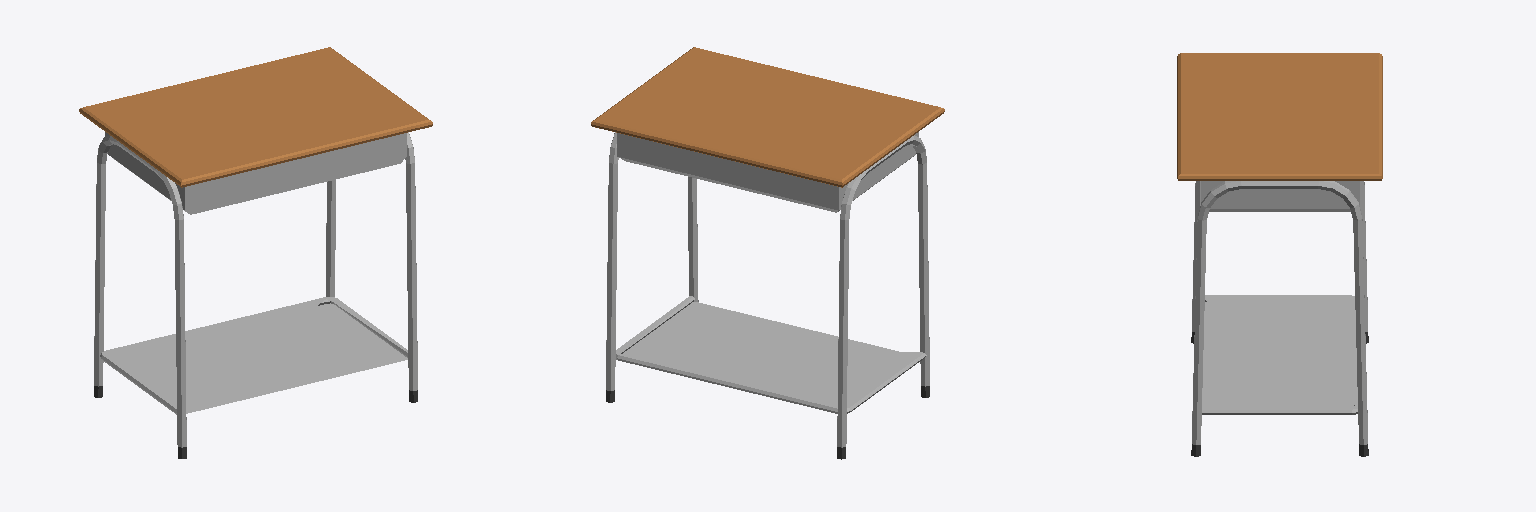
The model's file is desk1.obj.
The picture shows the model from 3 angles: view 1: azimuth 30°, elevation 25°; view 2: azimuth 150°, elevation 25°; view 3: azimuth 270°, elevation 25°; orthographic projection.
Parts seen in each view (by area): view 1: Mesh1 Group1 Model, Mesh6 Group9 Model, Mesh2 Group4 Model, Mesh7 Group11 Group10 Model, Mesh3 Group6 Group5 Model; view 2: Mesh1 Group1 Model, Mesh6 Group9 Model, Mesh2 Group4 Model, Mesh7 Group11 Group10 Model, Mesh3 Group6 Group5 Model; view 3: Mesh1 Group1 Model, Mesh6 Group9 Model, Mesh3 Group6 Group5 Model, Mesh2 Group4 Model, Mesh7 Group11 Group10 Model.
Part boxes in pixels (left/top/right/bottom): Mesh1 Group1 Model: left=79, top=47, right=432, bottom=187; Mesh6 Group9 Model: left=100, top=297, right=407, bottom=414; Mesh2 Group4 Model: left=105, top=132, right=406, bottom=214; Mesh7 Group11 Group10 Model: left=94, top=135, right=186, bottom=447; Mesh3 Group6 Group5 Model: left=326, top=132, right=417, bottom=390; Mesh1 Group1 Model: left=591, top=47, right=944, bottom=187; Mesh6 Group9 Model: left=616, top=296, right=926, bottom=413; Mesh2 Group4 Model: left=617, top=132, right=918, bottom=212; Mesh7 Group11 Group10 Model: left=837, top=135, right=929, bottom=447; Mesh3 Group6 Group5 Model: left=606, top=132, right=698, bottom=390; Mesh1 Group1 Model: left=1177, top=53, right=1382, bottom=180; Mesh6 Group9 Model: left=1202, top=295, right=1357, bottom=414; Mesh3 Group6 Group5 Model: left=1192, top=181, right=1367, bottom=444; Mesh2 Group4 Model: left=1201, top=181, right=1359, bottom=211; Mesh7 Group11 Group10 Model: left=1192, top=181, right=1367, bottom=331.
Bounding box in the file's own units: 0.676 × 0.7302 × 0.476.